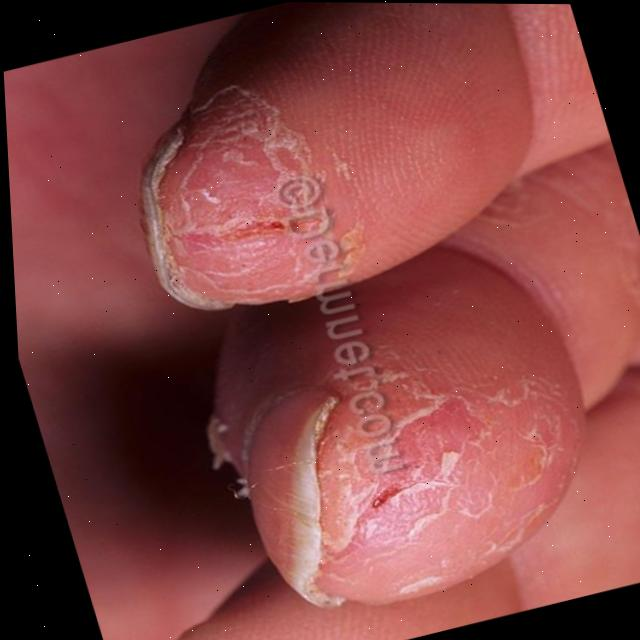Eczema: (318, 369, 540, 590), (161, 98, 355, 303)
